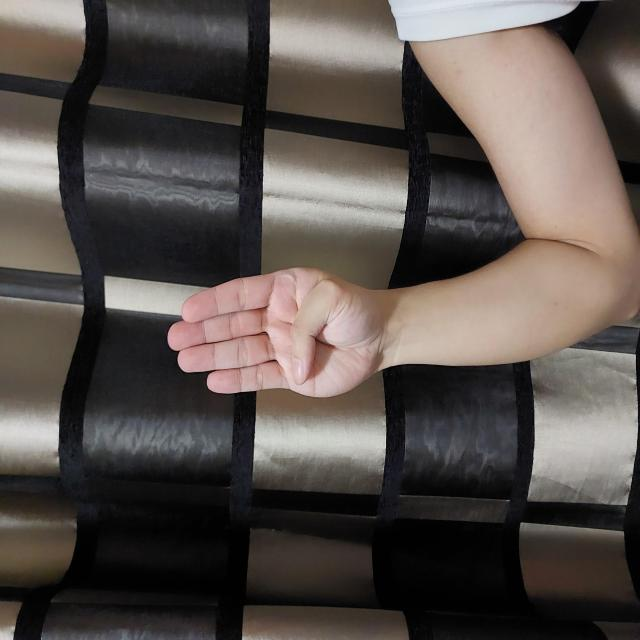B: (242, 165, 374, 388)
